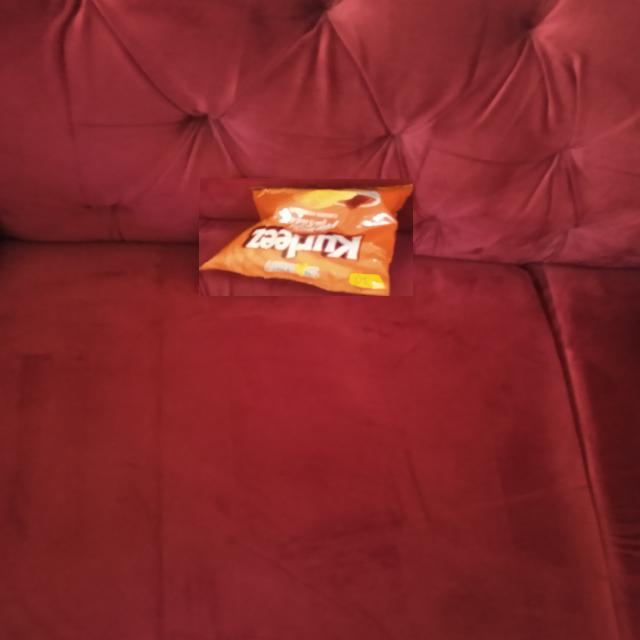Plastic: (199, 177, 413, 296)
